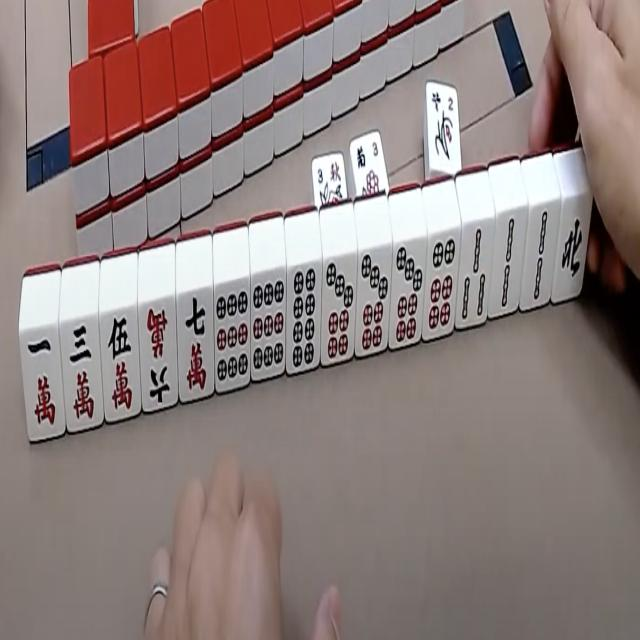f2: (428, 84, 460, 171)
f3: (349, 133, 386, 199)
ff3: (311, 154, 348, 208)
m1: (19, 330, 66, 440)
m3: (62, 321, 105, 430)
m5: (103, 311, 141, 418)
m6: (140, 299, 178, 407)
m7: (177, 289, 212, 399)
north: (558, 200, 588, 299)
s2: (490, 211, 526, 315), (522, 204, 556, 310)
s3: (459, 222, 492, 326)
t6: (428, 232, 460, 337)
t7: (393, 242, 426, 348), (359, 248, 391, 356), (324, 256, 356, 364)
t8: (289, 266, 321, 372)
t9: (216, 282, 253, 387), (251, 272, 286, 378)
